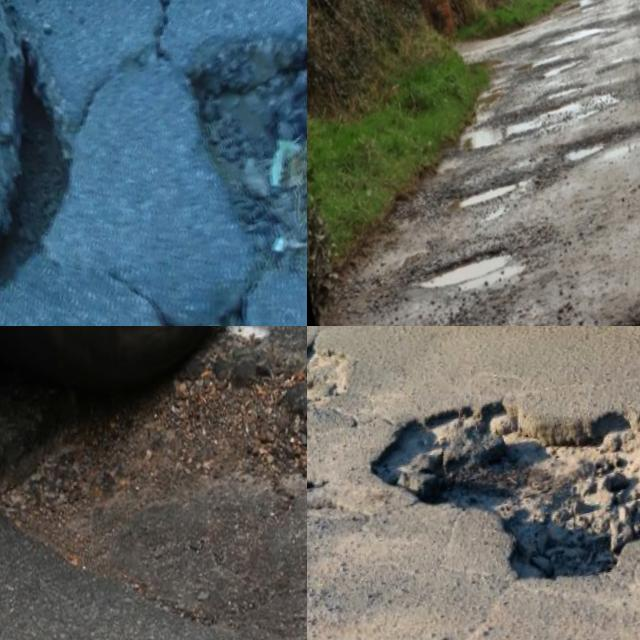Potholes: (309, 326, 640, 640), (0, 326, 307, 640), (166, 0, 307, 326), (0, 20, 116, 326), (396, 191, 530, 326), (509, 0, 640, 108), (451, 86, 577, 184), (307, 326, 369, 464), (544, 105, 634, 193), (349, 296, 500, 326)
